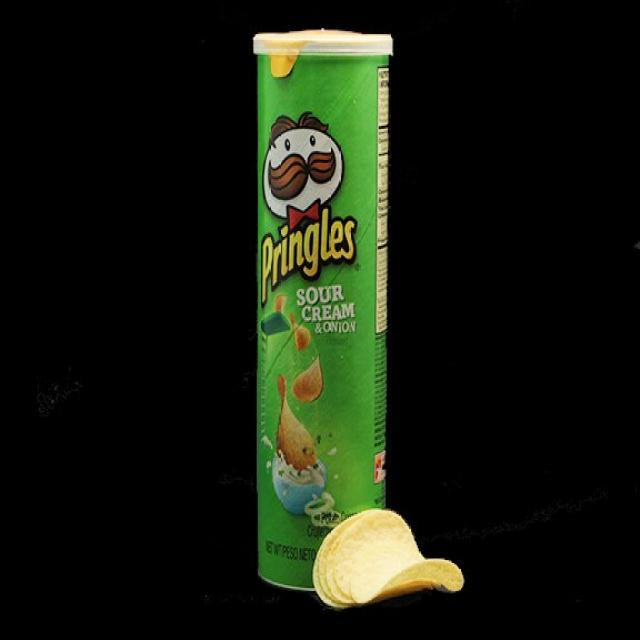Chips: (235, 18, 394, 598)
Chips packaged: (311, 505, 467, 611)
